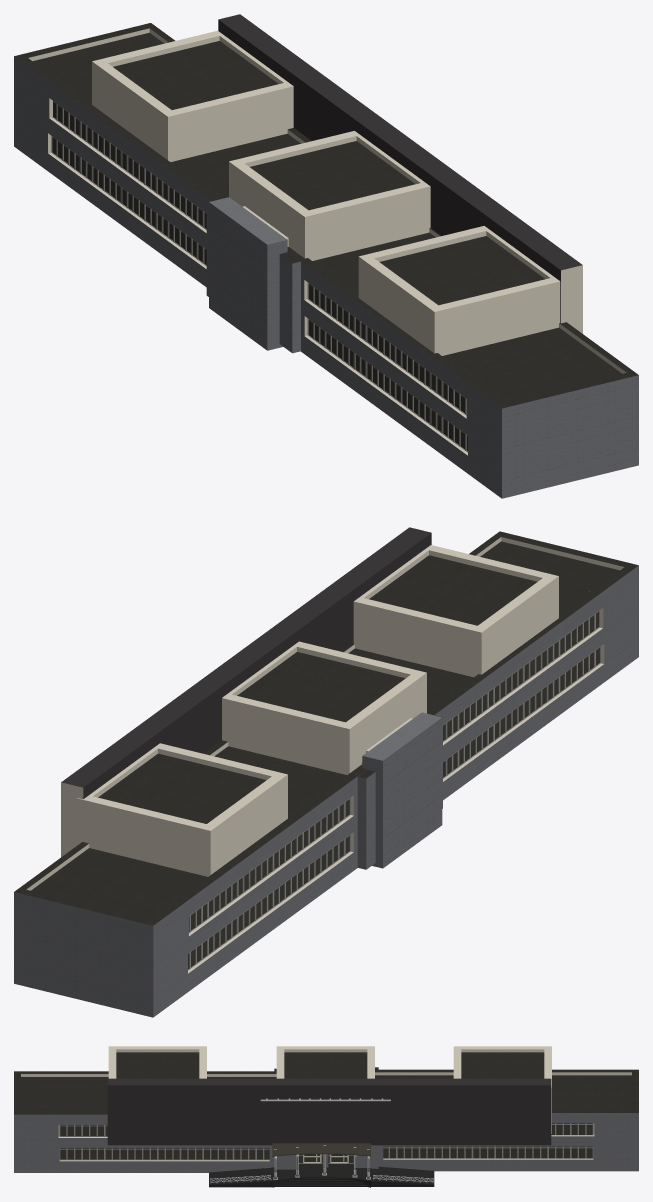
File: corp1.gltf
The picture shows the model from 3 angles, top to bottom: view 1: azimuth 30°, elevation 25°; view 2: azimuth 150°, elevation 25°; view 3: azimuth 270°, elevation 25°; orthographic projection. The views are drawn at different scales.
Visible parts, largest first — view 1: GIRY29_304_StaticMeshComponent0; view 2: GIRY29_304_StaticMeshComponent0; view 3: GIRY29_304_StaticMeshComponent0.
Boxes of the visible parts, box(x1,y1,x2,y2) form: GIRY29_304_StaticMeshComponent0: box(14, 14, 638, 498); GIRY29_304_StaticMeshComponent0: box(14, 527, 638, 1017); GIRY29_304_StaticMeshComponent0: box(14, 1046, 638, 1187).
Size of the model in its own units: 21.27 by 13.86 by 82.62.
